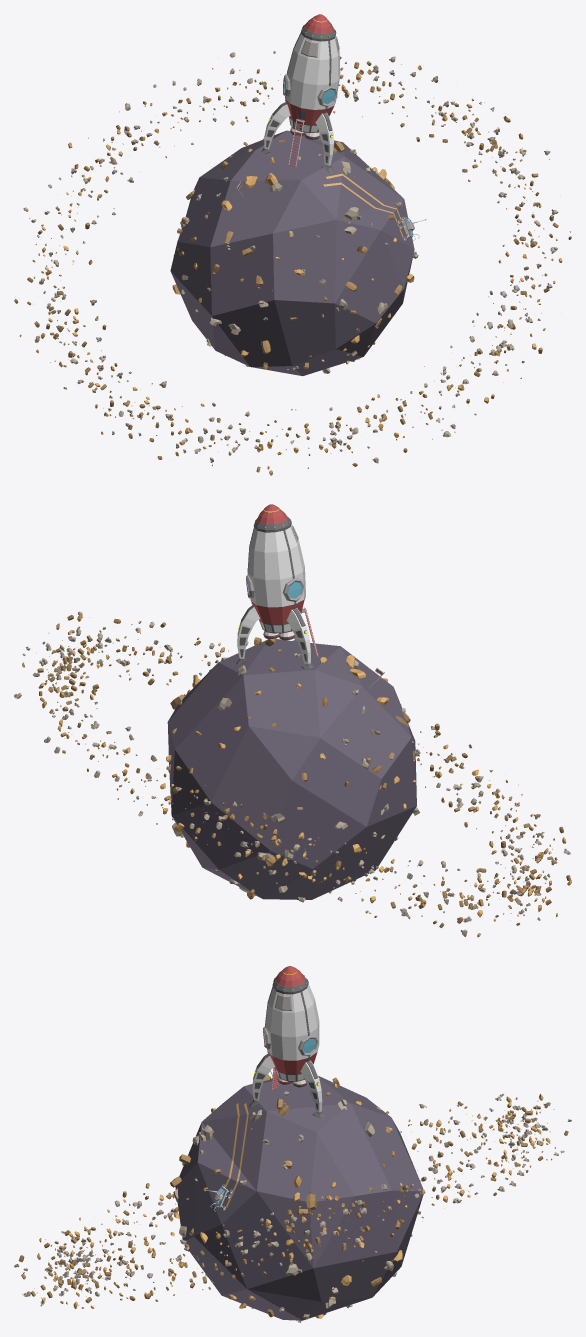
Rendered from planet-full-scene.glb.
The picture shows the model from 3 angles, top to bottom: view 1: azimuth 30°, elevation 25°; view 2: azimuth 150°, elevation 25°; view 3: azimuth 270°, elevation 25°; orthographic projection. The views are drawn at different scales.
Visible parts, largest first — view 1: planet.002, planet.003; view 2: planet.002, planet.003; view 3: planet.002, planet.003.
Part boxes in pixels (x1,y1,x2,y2): planet.002: (14, 14, 570, 475); planet.003: (15, 51, 571, 475); planet.002: (14, 504, 571, 927); planet.003: (22, 614, 571, 937); planet.002: (18, 966, 571, 1322); planet.003: (14, 1070, 570, 1308).
Bounding box in the file's own units: 30.54 × 22.89 × 31.63.
Materials: 1 (1 with a texture image).
